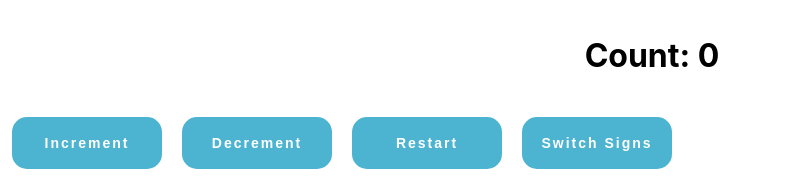
Counter error handling › should display an error message if the user tries to invert 0
Click the button "Switch Signs" at (597, 143), box [522, 117, 672, 169]
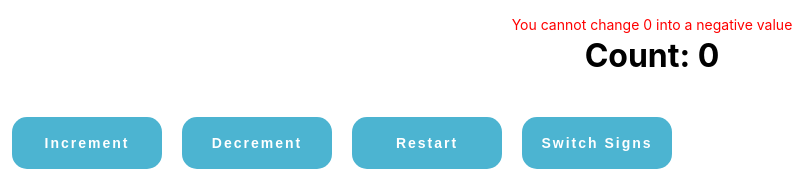
Expected: the text "You cannot change 0 into a negative value" is shown, [512, 16, 792, 33]
